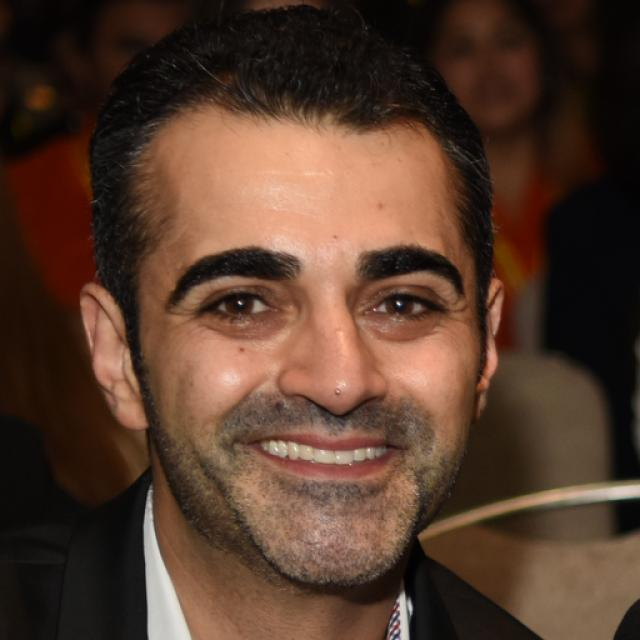Acne: (329, 385, 344, 404), (327, 232, 343, 244)
Dark Circle: (207, 312, 288, 340), (364, 316, 440, 341)
